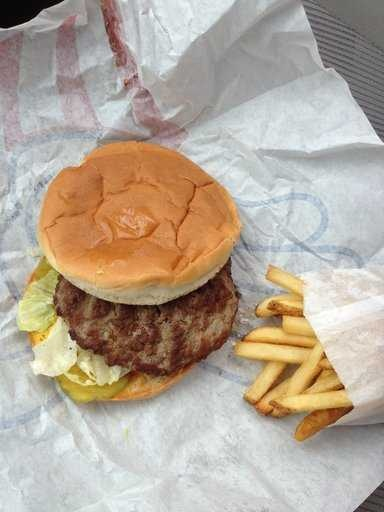hamburger: (12, 140, 256, 410)
